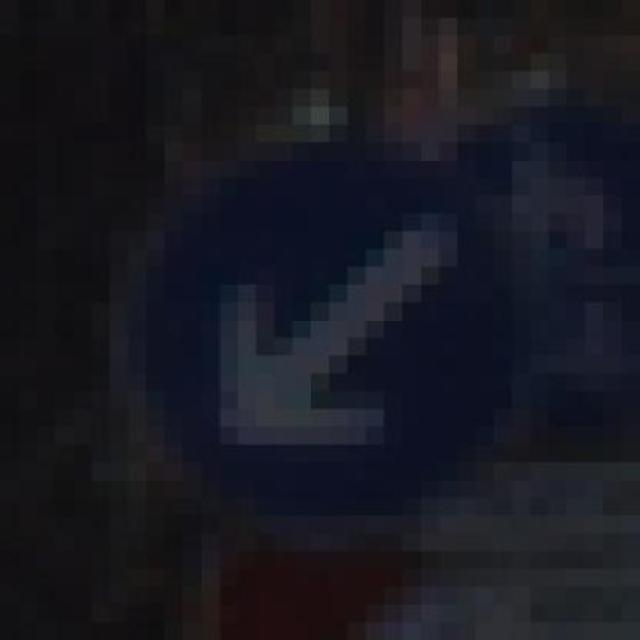Keep-Left: (110, 106, 548, 534)
